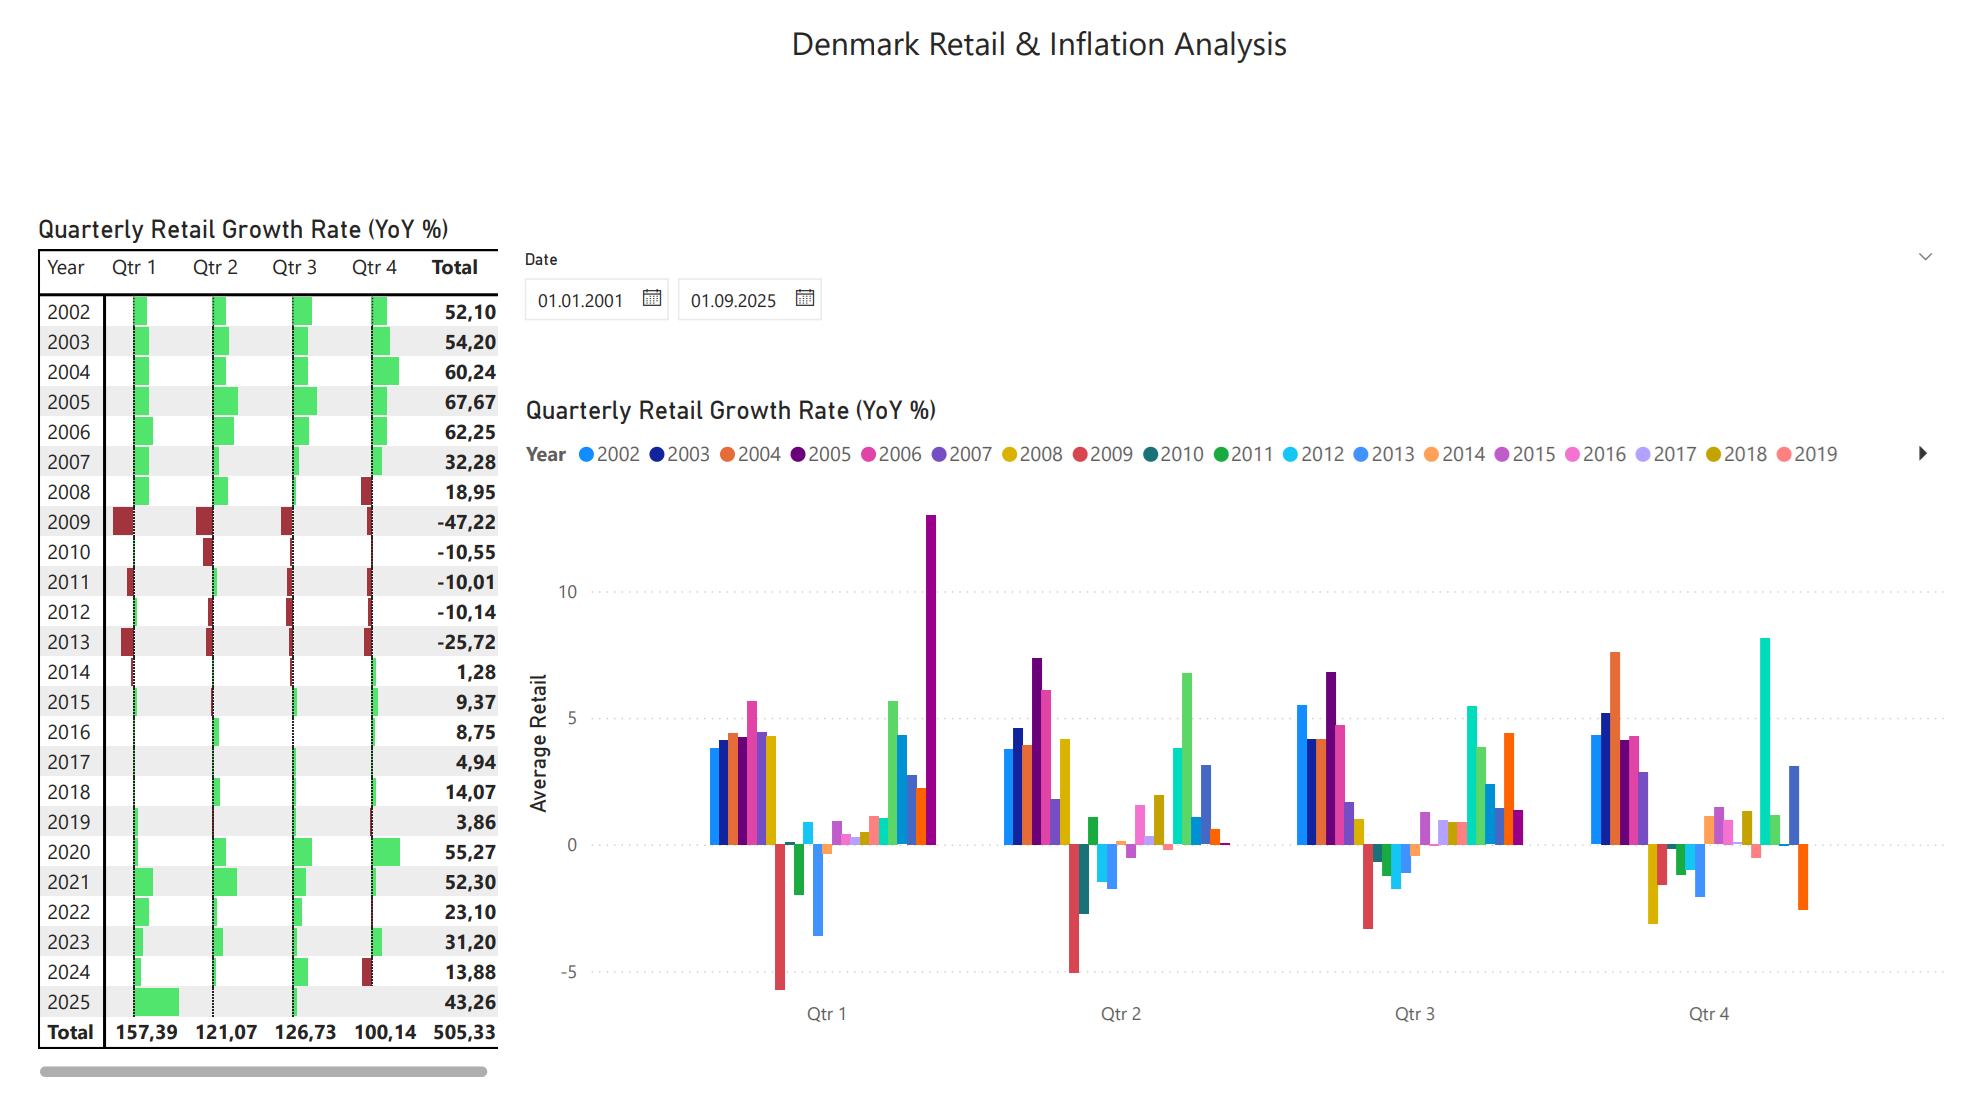

What the dashboard file says about the page in this screenshot:
{"tool":"powerbi","page":{"name":"Final 2","canvas":[1280,720],"ordinal":1},"visuals":[{"type":"slicer","fields":{"Values":["merged_analysis.date"]},"box":[316.2,157.5,963.8,86.2],"z":0},{"type":"clusteredColumnChart","title":"Quarterly Retail Growth Rate (YoY %)","fields":{"Category":["merged_analysis.date.Variation.Date Hierarchy.Quarter"],"Y":["Avg(merged_analysis.retail_yoy_change_pct)"],"Series":["merged_analysis.date.Variation.Date Hierarchy.Year"]},"box":[325,260,955,430],"z":1000},{"type":"textbox","box":[460.4,4.6,423.3,44.1],"z":2000},{"type":"pivotTable","title":"Quarterly Retail Growth Rate (YoY %)","fields":{"Columns":["merged_analysis.date.Variation.Date Hierarchy.Quarter"],"Rows":["merged_analysis.date.Variation.Date Hierarchy.Year"],"Values":["Sum(merged_analysis.retail_yoy_change_pct)"]},"box":[0,139,316,581],"z":3000}]}

Visuals, with their boxes in screenshot pixels (x1, y1, x2, y2), scaled from the page's 1280x720 canvas onto the 1975x1120 screenshot:
slicer - merged_analysis.date: 488 245 1974 379
"Quarterly Retail Growth Rate (YoY %)" clusteredColumnChart: 501 404 1974 1073
textbox: 710 7 1364 76
"Quarterly Retail Growth Rate (YoY %)" pivotTable: 0 216 488 1119
